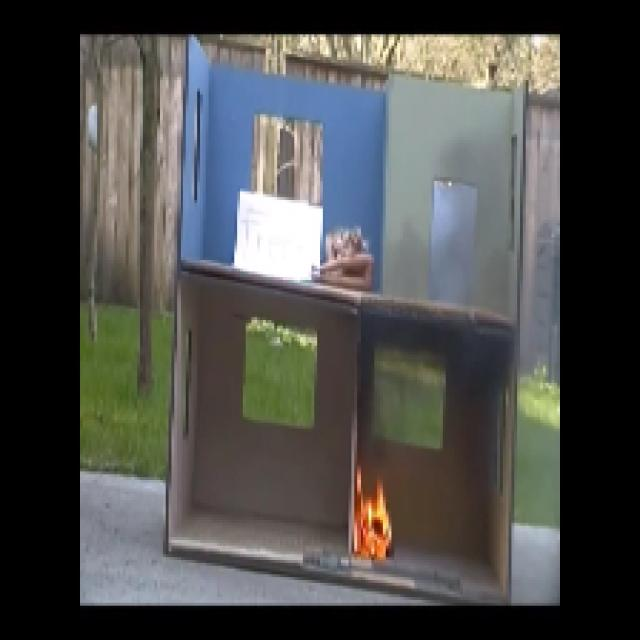fire: (347, 466, 397, 575)
